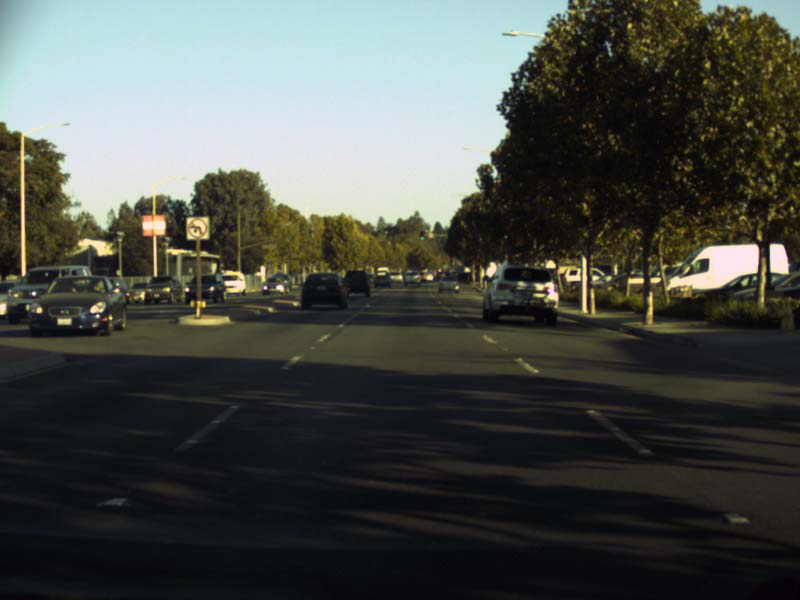Green: (419, 230, 424, 240)
